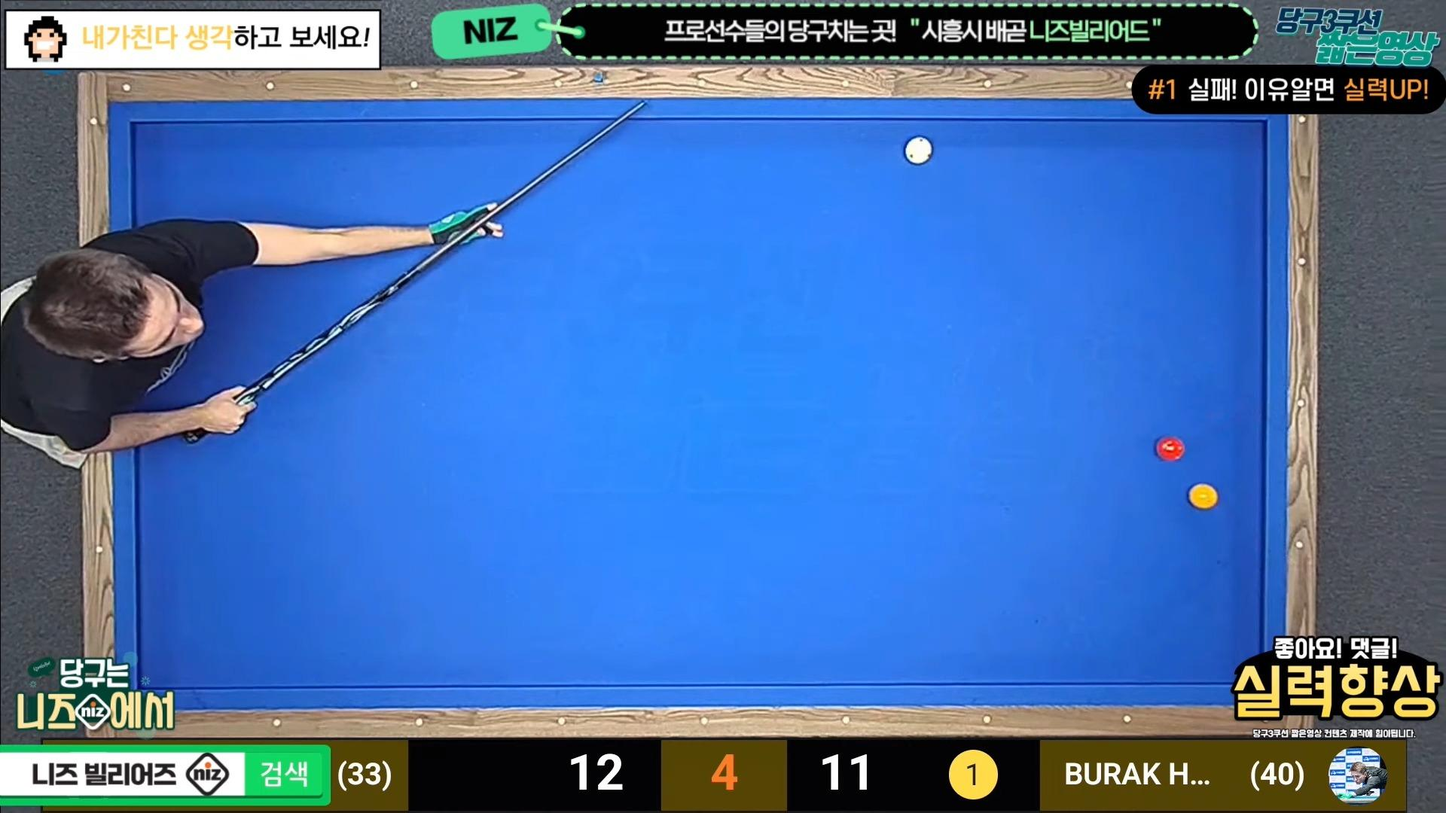-billiard-ball: (903, 134, 933, 165)
Red: (1156, 437, 1189, 463)
White: (904, 135, 939, 165)
Yellow: (1186, 484, 1222, 511)
